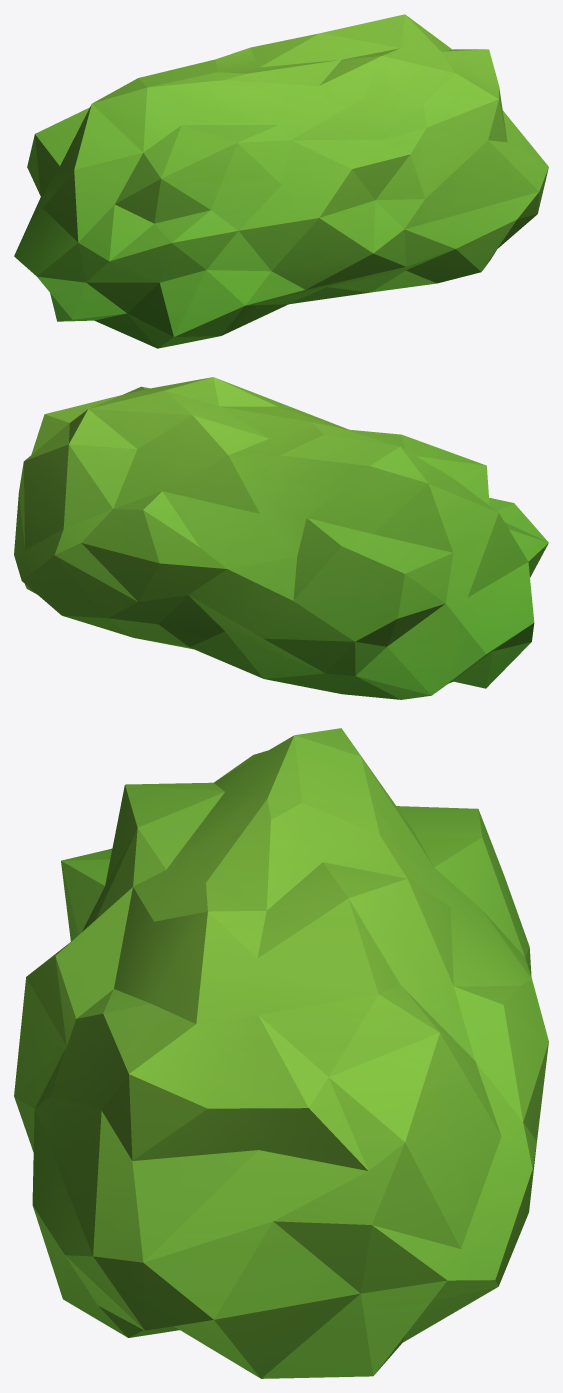
Rendered from lock2.glb.
The picture shows the model from 3 angles, top to bottom: view 1: azimuth 30°, elevation 25°; view 2: azimuth 150°, elevation 25°; view 3: azimuth 270°, elevation 25°; orthographic projection. The views are drawn at different scales.
Parts seen in each view (by area): view 1: Icosphere.012; view 2: Icosphere.012; view 3: Icosphere.012.
Part boxes in pixels (x1,y1,x2,y2): Icosphere.012: [14, 14, 548, 348]; Icosphere.012: [14, 377, 548, 699]; Icosphere.012: [14, 728, 548, 1378].
Size of the model in its own units: 141 by 62.1 by 78.23.
Materials: 1 (1 with a texture image).
